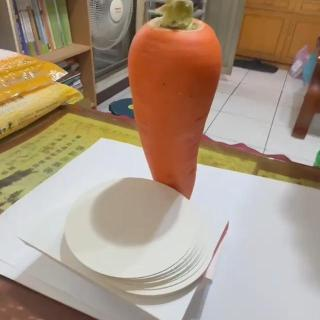carrot: (126, 0, 222, 200)
